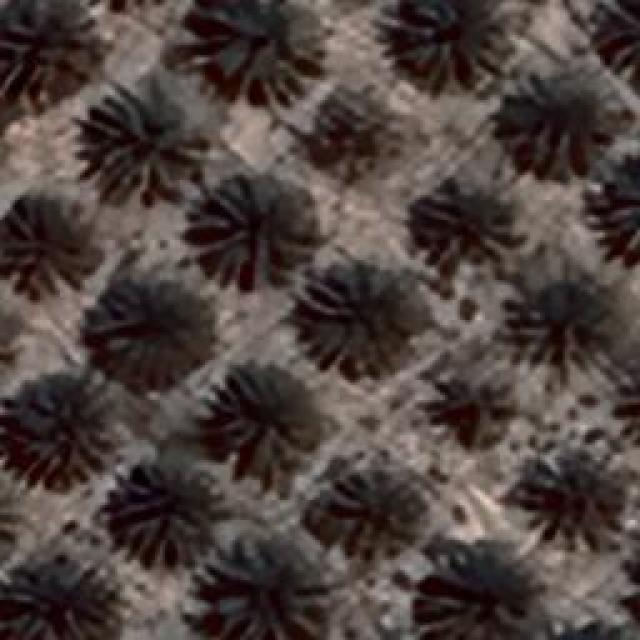PalmTree: (54, 119, 588, 628), (102, 23, 613, 206), (80, 72, 208, 206), (10, 364, 130, 488), (192, 0, 325, 102), (105, 454, 220, 568), (300, 260, 410, 378), (185, 175, 293, 288), (502, 270, 616, 375), (88, 288, 210, 380), (500, 72, 602, 180), (506, 451, 624, 544), (210, 544, 325, 638), (220, 370, 322, 475), (394, 0, 508, 88), (421, 555, 534, 640), (0, 197, 98, 295), (2, 0, 100, 95), (0, 560, 110, 638), (310, 480, 415, 548), (420, 190, 515, 262), (312, 90, 391, 176), (431, 382, 504, 456), (592, 0, 638, 78), (615, 353, 640, 454), (0, 463, 20, 573), (0, 284, 21, 388), (621, 352, 640, 453), (538, 623, 640, 640), (0, 462, 15, 572), (0, 284, 15, 389), (0, 286, 12, 389)
